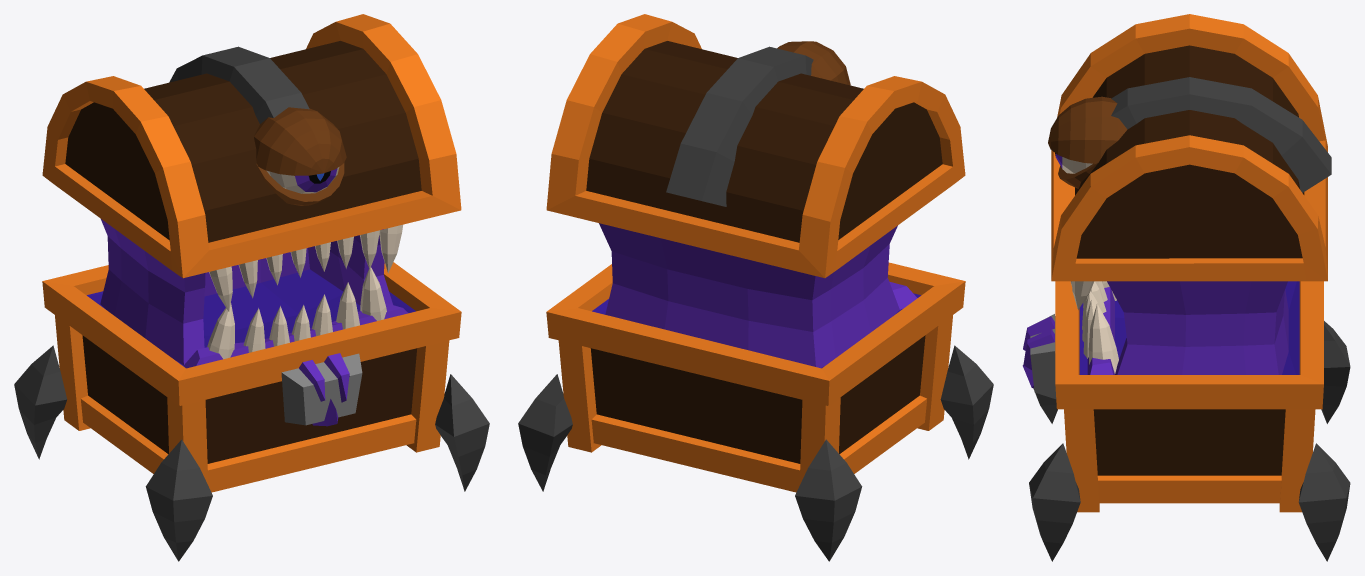
Rendered from chest_monster.glb.
3 views of the same model, side by side, from view 1: azimuth 30°, elevation 25°; view 2: azimuth 150°, elevation 25°; view 3: azimuth 270°, elevation 25° (orthographic).
Visible parts, largest first — view 1: ChestMesh; view 2: ChestMesh; view 3: ChestMesh.
Boxes of the visible parts, bbox=[...] form: ChestMesh: bbox=[14, 14, 489, 561]; ChestMesh: bbox=[518, 14, 993, 561]; ChestMesh: bbox=[1022, 14, 1350, 561].
Bounding box in the file's own units: 1.25 × 1.55 × 1.12.
1 material, 1 textured.
